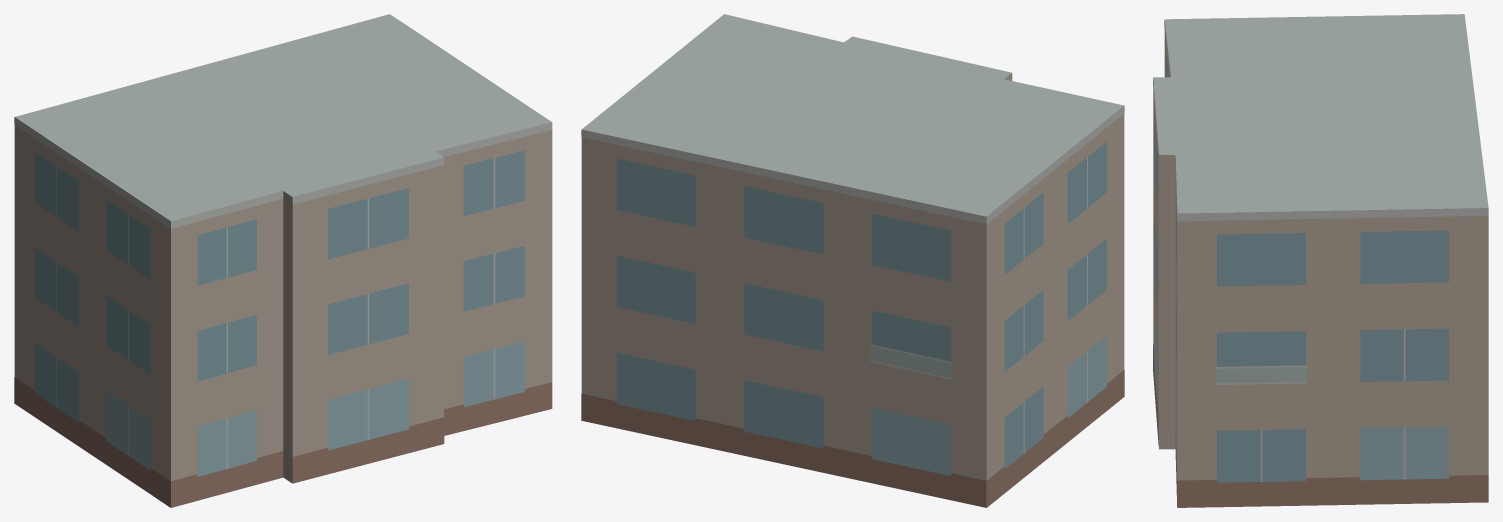
Rendered from survey-upis-32706860.glb.
3 renders of one model, left to right at view 1: azimuth 30°, elevation 25°; view 2: azimuth 150°, elevation 25°; view 3: azimuth 270°, elevation 25°, orthographic. The views are drawn at different scales.
Parts seen in each view (by area): view 1: survey-upis-32706860.tmp; view 2: survey-upis-32706860.tmp; view 3: survey-upis-32706860.tmp.
Boxes of the visible parts, box(x1,y1,x2,y2) form: survey-upis-32706860.tmp: box(14, 14, 552, 507); survey-upis-32706860.tmp: box(581, 14, 1124, 507); survey-upis-32706860.tmp: box(1153, 14, 1488, 507).
Bounding box in the file's own units: 13.31 × 9.15 × 9.46.
